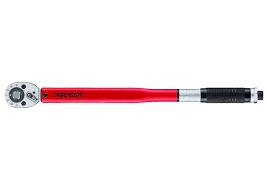wrench: (2, 80, 264, 108)
